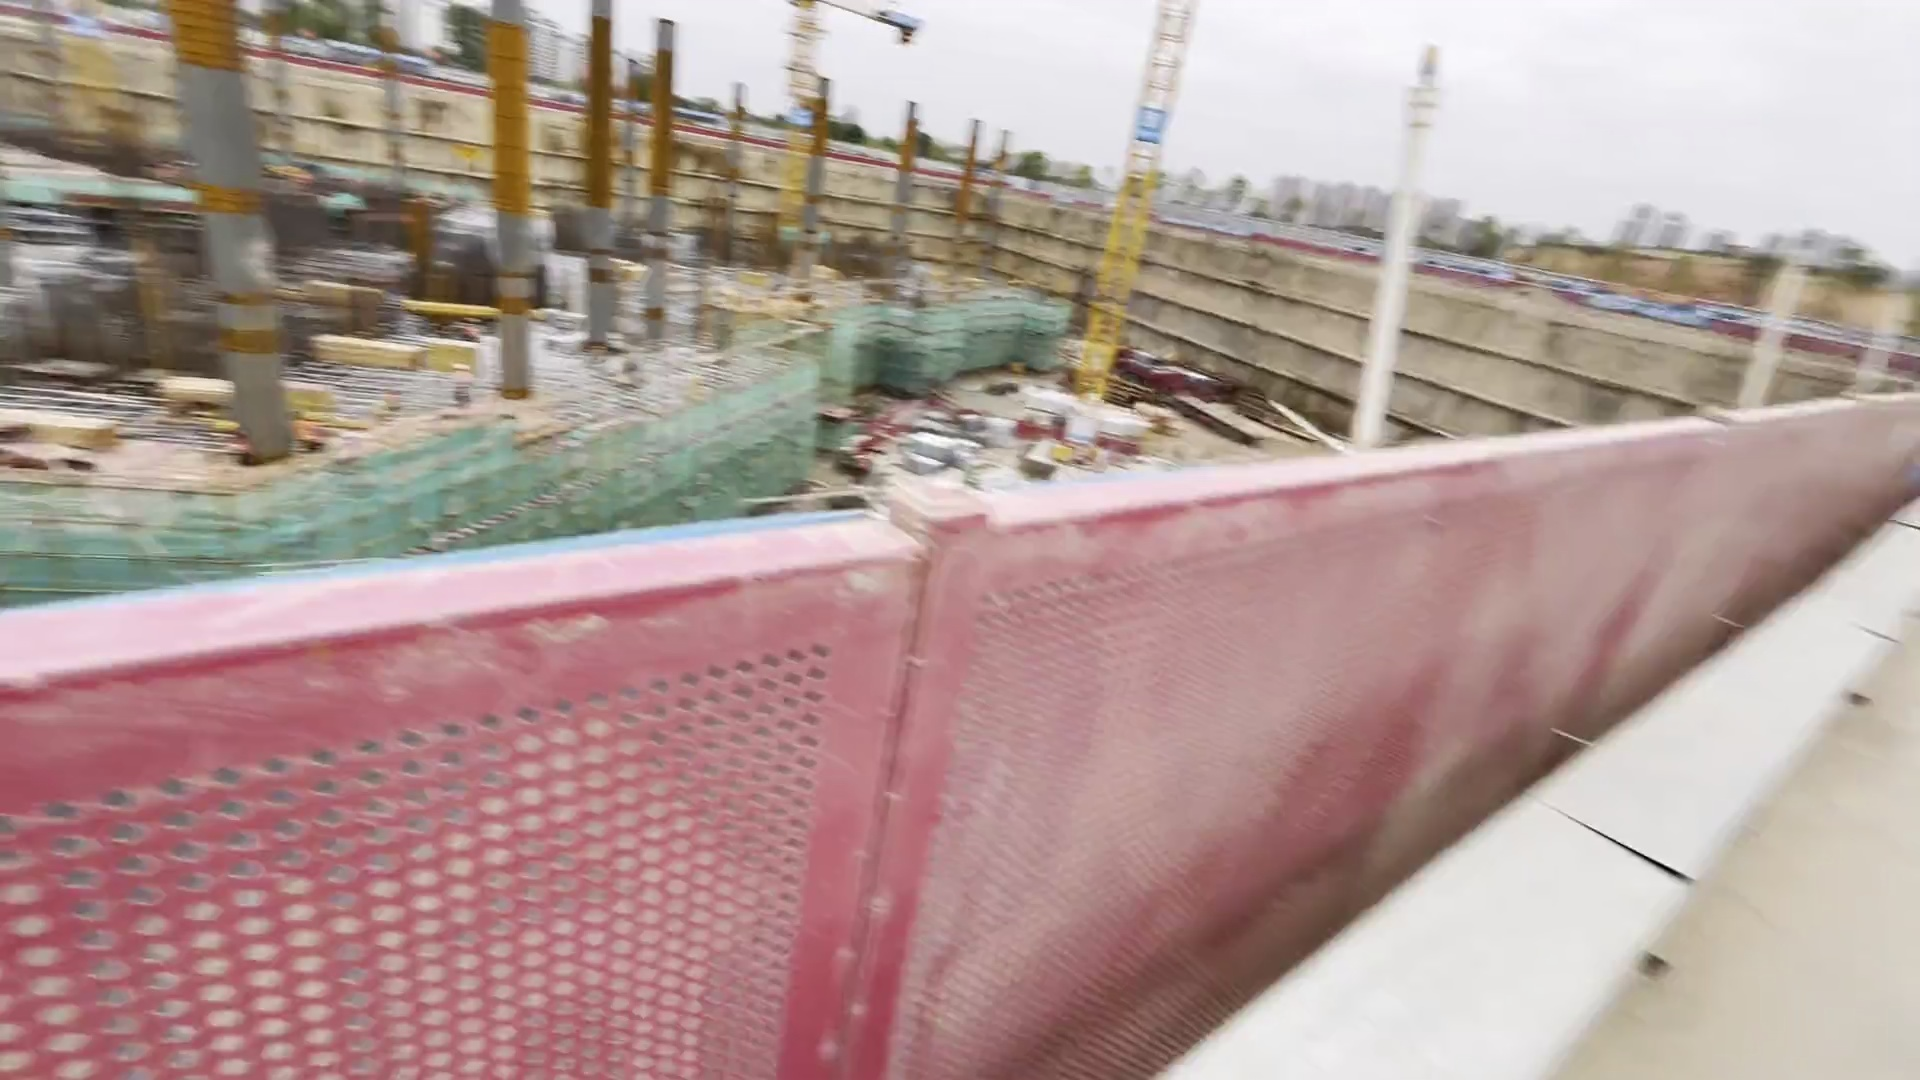fence: (433, 360, 1920, 978)
